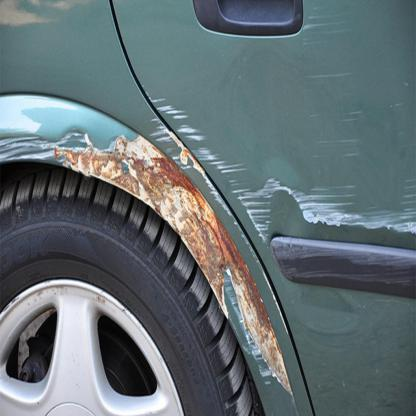door: (111, 1, 415, 415)
